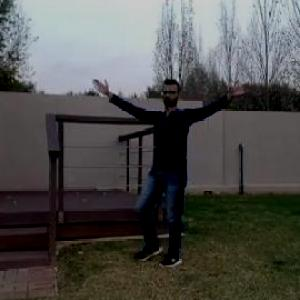takeoff: (101, 72, 269, 276)
